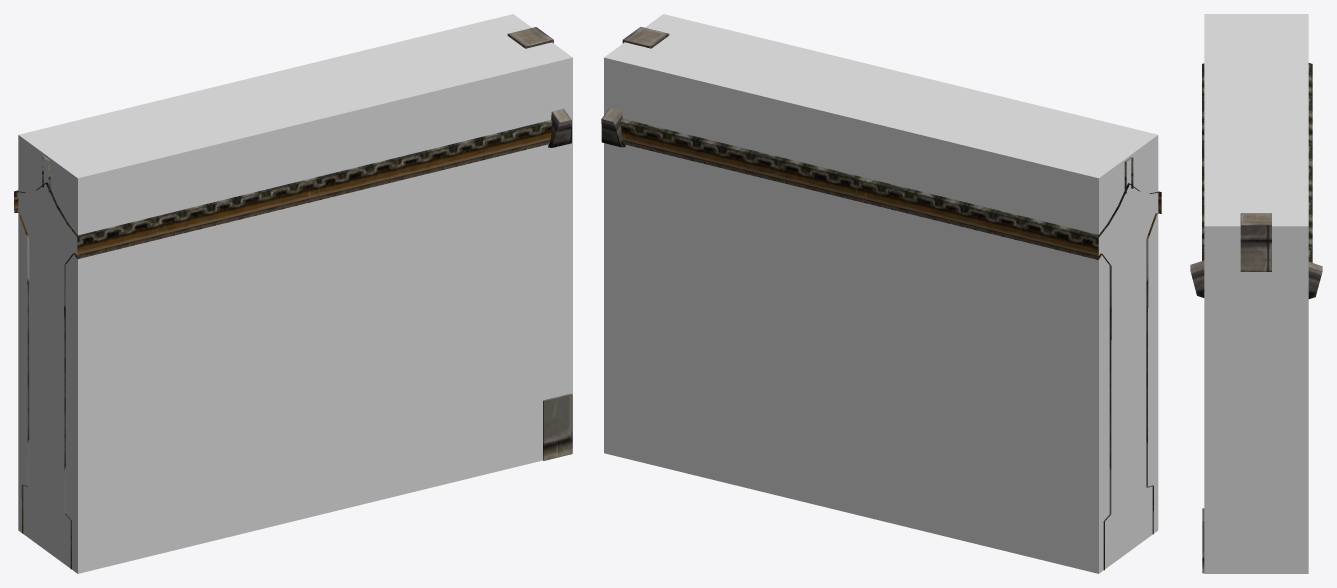
File: YHJ_weiqiang_a.FBX
3 views of the same model, side by side, from view 1: azimuth 30°, elevation 25°; view 2: azimuth 150°, elevation 25°; view 3: azimuth 270°, elevation 25° (orthographic). The views are drawn at different scales.
Visible parts, largest first — view 1: YHJ_weiqiang_a-col, YHJ_weiqiang_a; view 2: YHJ_weiqiang_a-col, YHJ_weiqiang_a; view 3: YHJ_weiqiang_a-col, YHJ_weiqiang_a.
Boxes of the visible parts, x1=… form: YHJ_weiqiang_a-col: x1=18, y1=14, x2=572, y2=573; YHJ_weiqiang_a: x1=14, y1=27, x2=572, y2=569; YHJ_weiqiang_a-col: x1=604, y1=14, x2=1158, y2=573; YHJ_weiqiang_a: x1=601, y1=27, x2=1161, y2=570; YHJ_weiqiang_a-col: x1=1204, y1=14, x2=1308, y2=573; YHJ_weiqiang_a: x1=1190, y1=63, x2=1322, y2=573.
Bounding box in the file's own units: 5.63 × 4.29 × 1.47.
